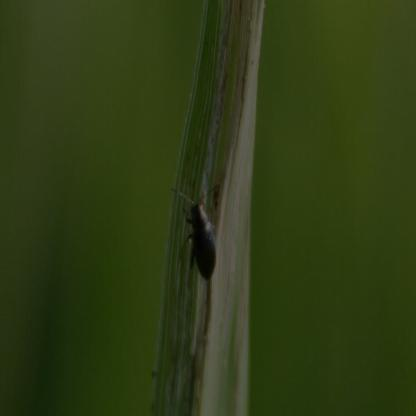rice-bug: (184, 190, 221, 284)
